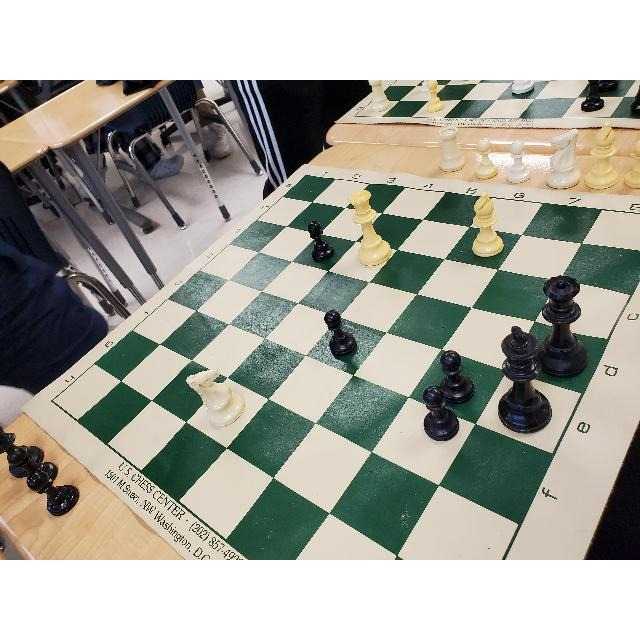black-king: (494, 323, 555, 435)
black-pawn: (421, 383, 461, 442), (439, 349, 476, 405), (322, 310, 360, 360), (304, 220, 338, 264)
black-queen: (532, 272, 591, 380)
white-bishop: (467, 189, 506, 260)
white-knight: (184, 367, 245, 429)
white-queen: (346, 189, 393, 268)
